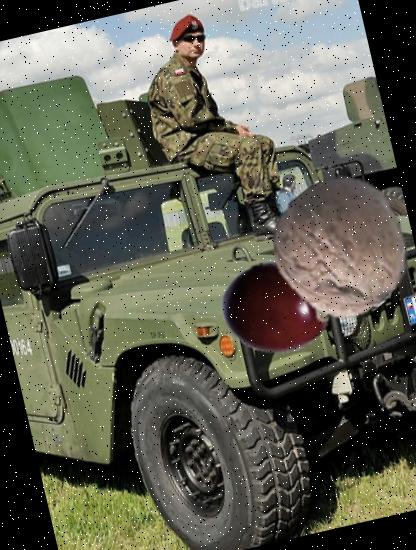Tamarillo: (210, 236, 348, 374)
Walnut: (261, 165, 416, 329)
